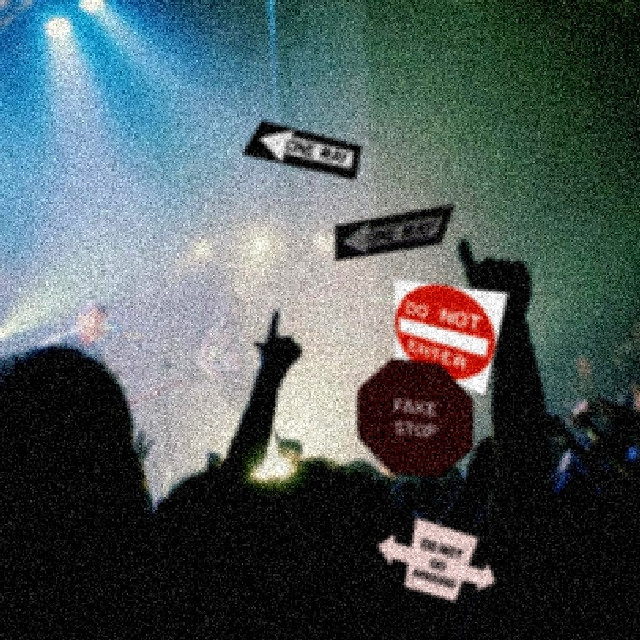DO_NOT_ENTER: (392, 276, 508, 396)
DO_NOT_GO_AROUND: (375, 515, 495, 601)
FAKE_STOP: (356, 357, 472, 477)
ONE_WAY_ left: (240, 119, 360, 178), (333, 202, 453, 259)
